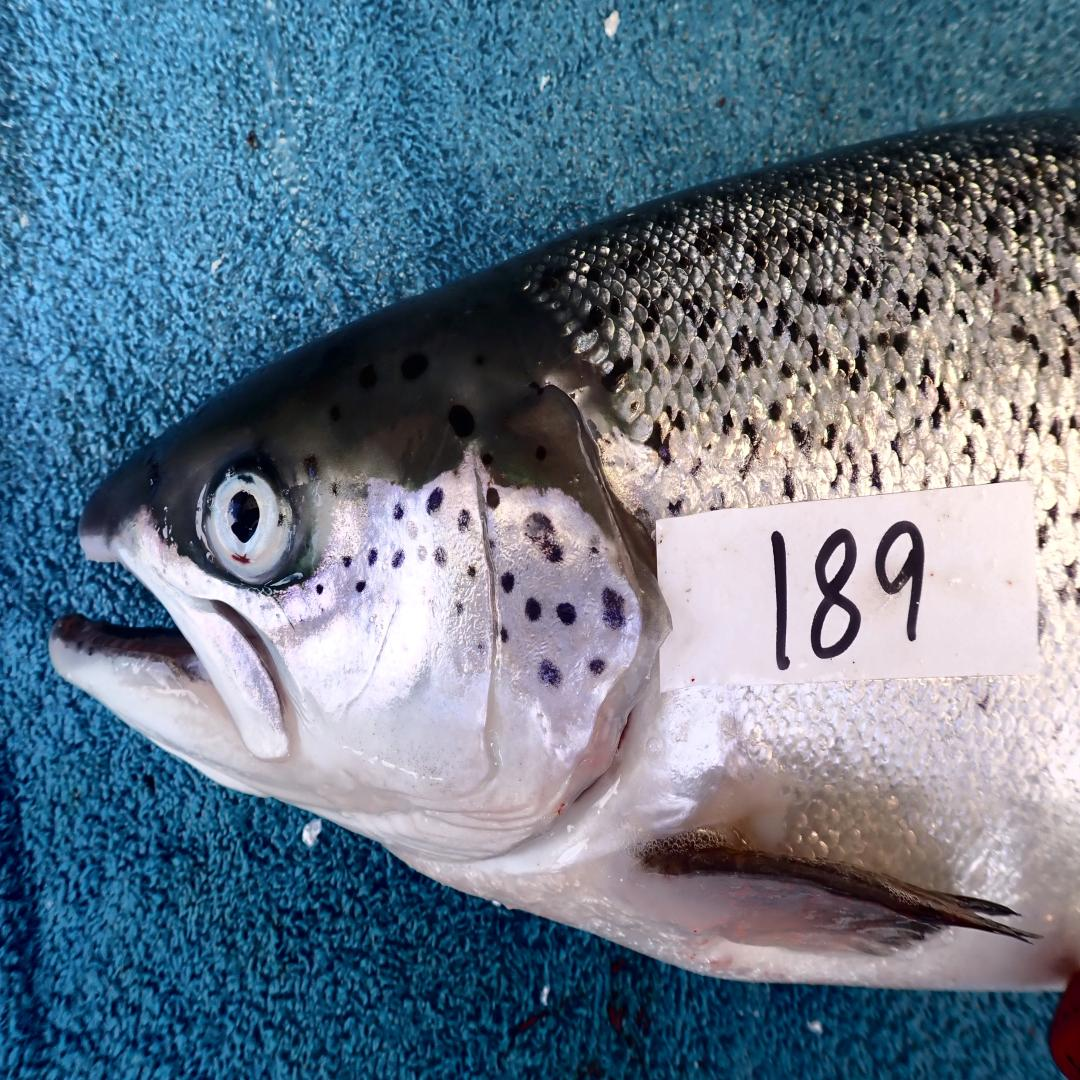spot: (525, 512, 563, 562), (601, 588, 624, 627), (538, 661, 561, 686), (426, 487, 443, 515), (525, 596, 542, 622), (557, 602, 576, 624), (500, 571, 515, 593), (487, 487, 500, 509), (589, 658, 605, 675), (458, 509, 470, 529), (589, 536, 600, 556), (435, 548, 447, 565), (392, 551, 403, 568), (481, 453, 493, 468), (368, 547, 377, 566), (394, 503, 403, 520), (500, 627, 508, 641), (418, 546, 426, 560), (455, 602, 463, 616), (342, 557, 352, 568), (468, 565, 477, 577), (356, 582, 365, 593), (316, 585, 323, 593)
